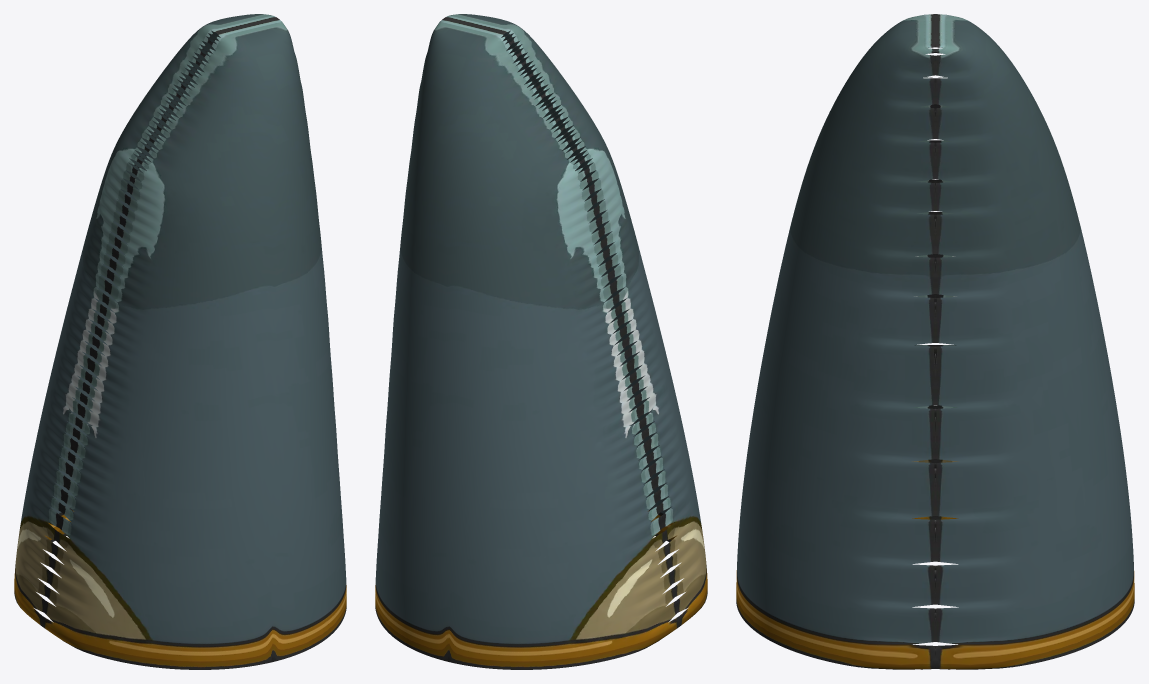
The model's file is rear_wall_panel.glb.
3 views of the same model, side by side, from view 1: azimuth 30°, elevation 25°; view 2: azimuth 150°, elevation 25°; view 3: azimuth 270°, elevation 25° (orthographic). The views are drawn at different scales.
Parts seen in each view (by area): view 1: rear_wall_panel; view 2: rear_wall_panel; view 3: rear_wall_panel.
Part boxes in pixels (left/top/right/bottom): rear_wall_panel: left=14, top=14, right=346, bottom=669; rear_wall_panel: left=375, top=14, right=707, bottom=669; rear_wall_panel: left=736, top=14, right=1134, bottom=669.
Size of the model in its own units: 0.979 by 1.89 by 1.13.
1 material, 1 textured.
